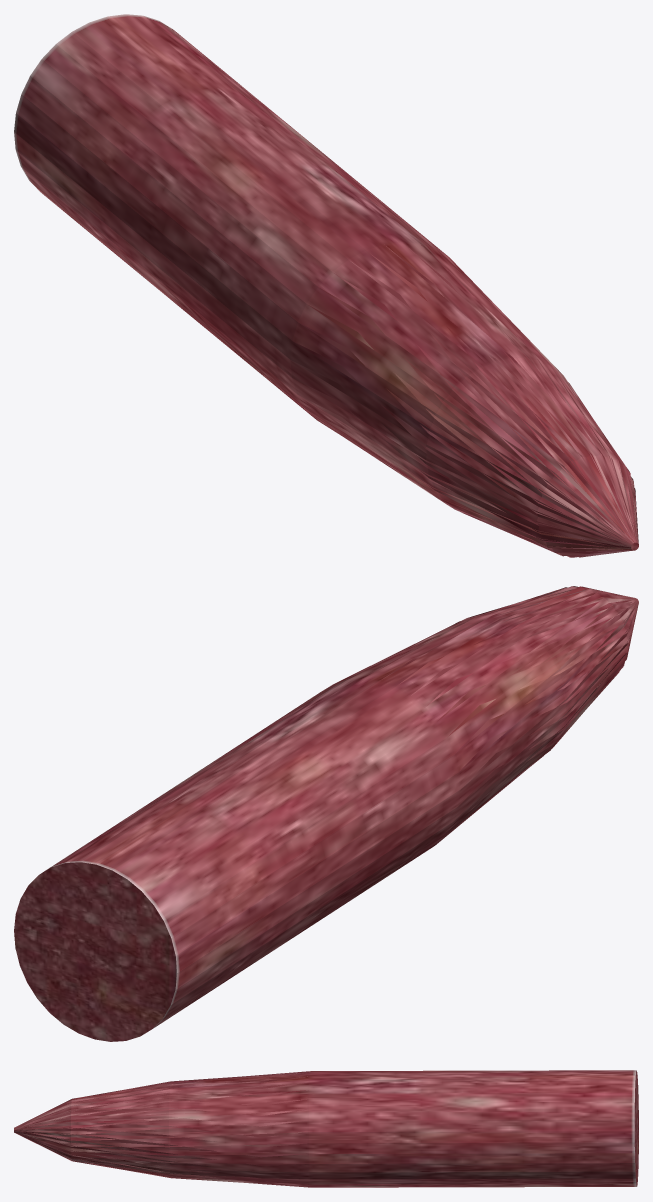
Rendered from salami.gltf.
3 renders of one model, top to bottom at view 1: azimuth 30°, elevation 25°; view 2: azimuth 150°, elevation 25°; view 3: azimuth 270°, elevation 25°, orthographic. The views are drawn at different scales.
Parts seen in each view (by area): view 1: Cylinder; view 2: Cylinder; view 3: Cylinder.
Part boxes in pixels (x1,y1,x2,y2): Cylinder: (14, 14, 638, 557); Cylinder: (14, 586, 638, 1041); Cylinder: (14, 1070, 638, 1187).
Bounding box in the file's own units: 0.3797 × 0.3646 × 1.86.
1 material, 1 textured.
